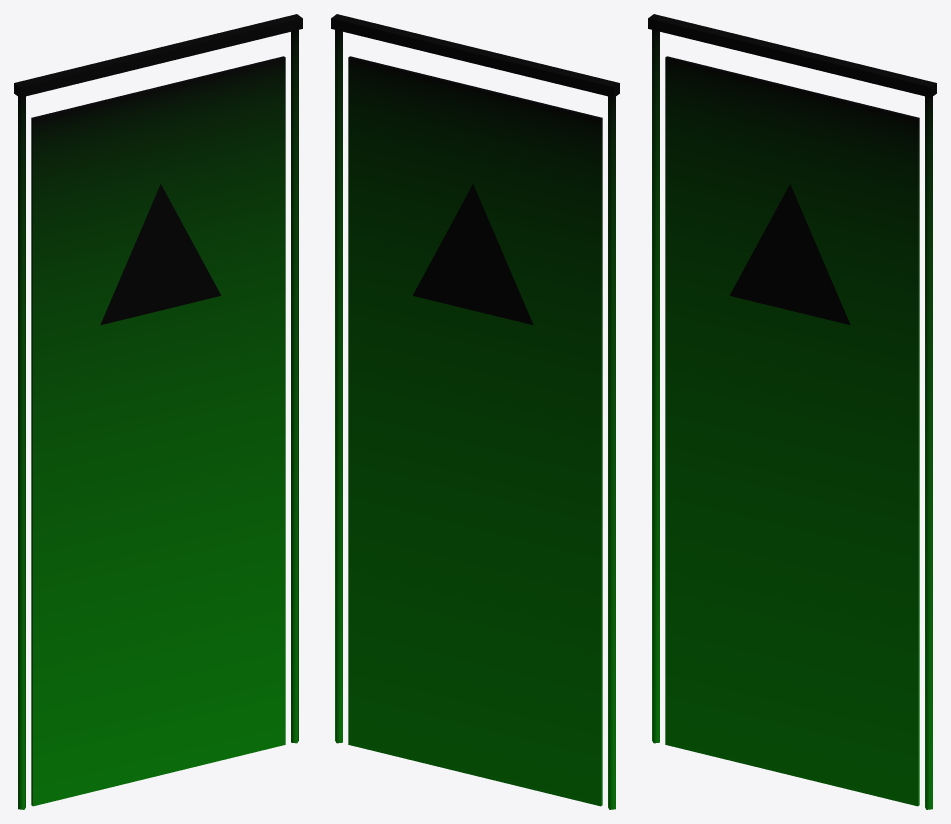
The model's file is l_banner.glb.
The picture shows the model from 3 angles, left to right: view 1: azimuth 30°, elevation 25°; view 2: azimuth 150°, elevation 25°; view 3: azimuth 330°, elevation 25°; orthographic projection.
Parts seen in each view (by area): view 1: lod0; view 2: lod0; view 3: lod0.
Part boxes in pixels (bbox=[...]): lod0: bbox=[14, 14, 302, 809]; lod0: bbox=[331, 14, 619, 809]; lod0: bbox=[648, 14, 936, 809].
Size of what is drawn, in the model's own units: 5.6 by 13.7 by 0.2.
